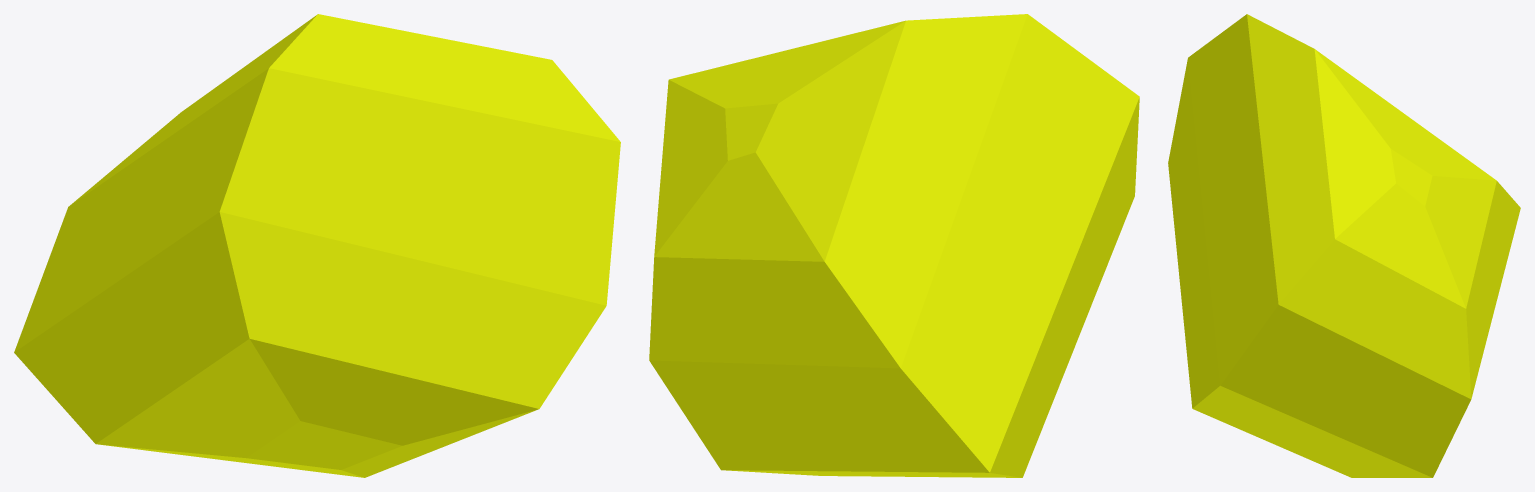
The model's file is gold.glb.
3 views of the same model, side by side, from view 1: azimuth 30°, elevation 25°; view 2: azimuth 150°, elevation 25°; view 3: azimuth 270°, elevation 25° (orthographic). The views are drawn at different scales.
Parts seen in each view (by area): view 1: gold_nugget; view 2: gold_nugget; view 3: gold_nugget.
Part boxes in pixels (box(x1,y1,x2,y2)): gold_nugget: box(14, 14, 620, 477); gold_nugget: box(649, 14, 1139, 477); gold_nugget: box(1168, 14, 1520, 477).
Size of the model in its own units: 0.2011 by 0.1999 by 0.1592.
1 material, 1 textured.
